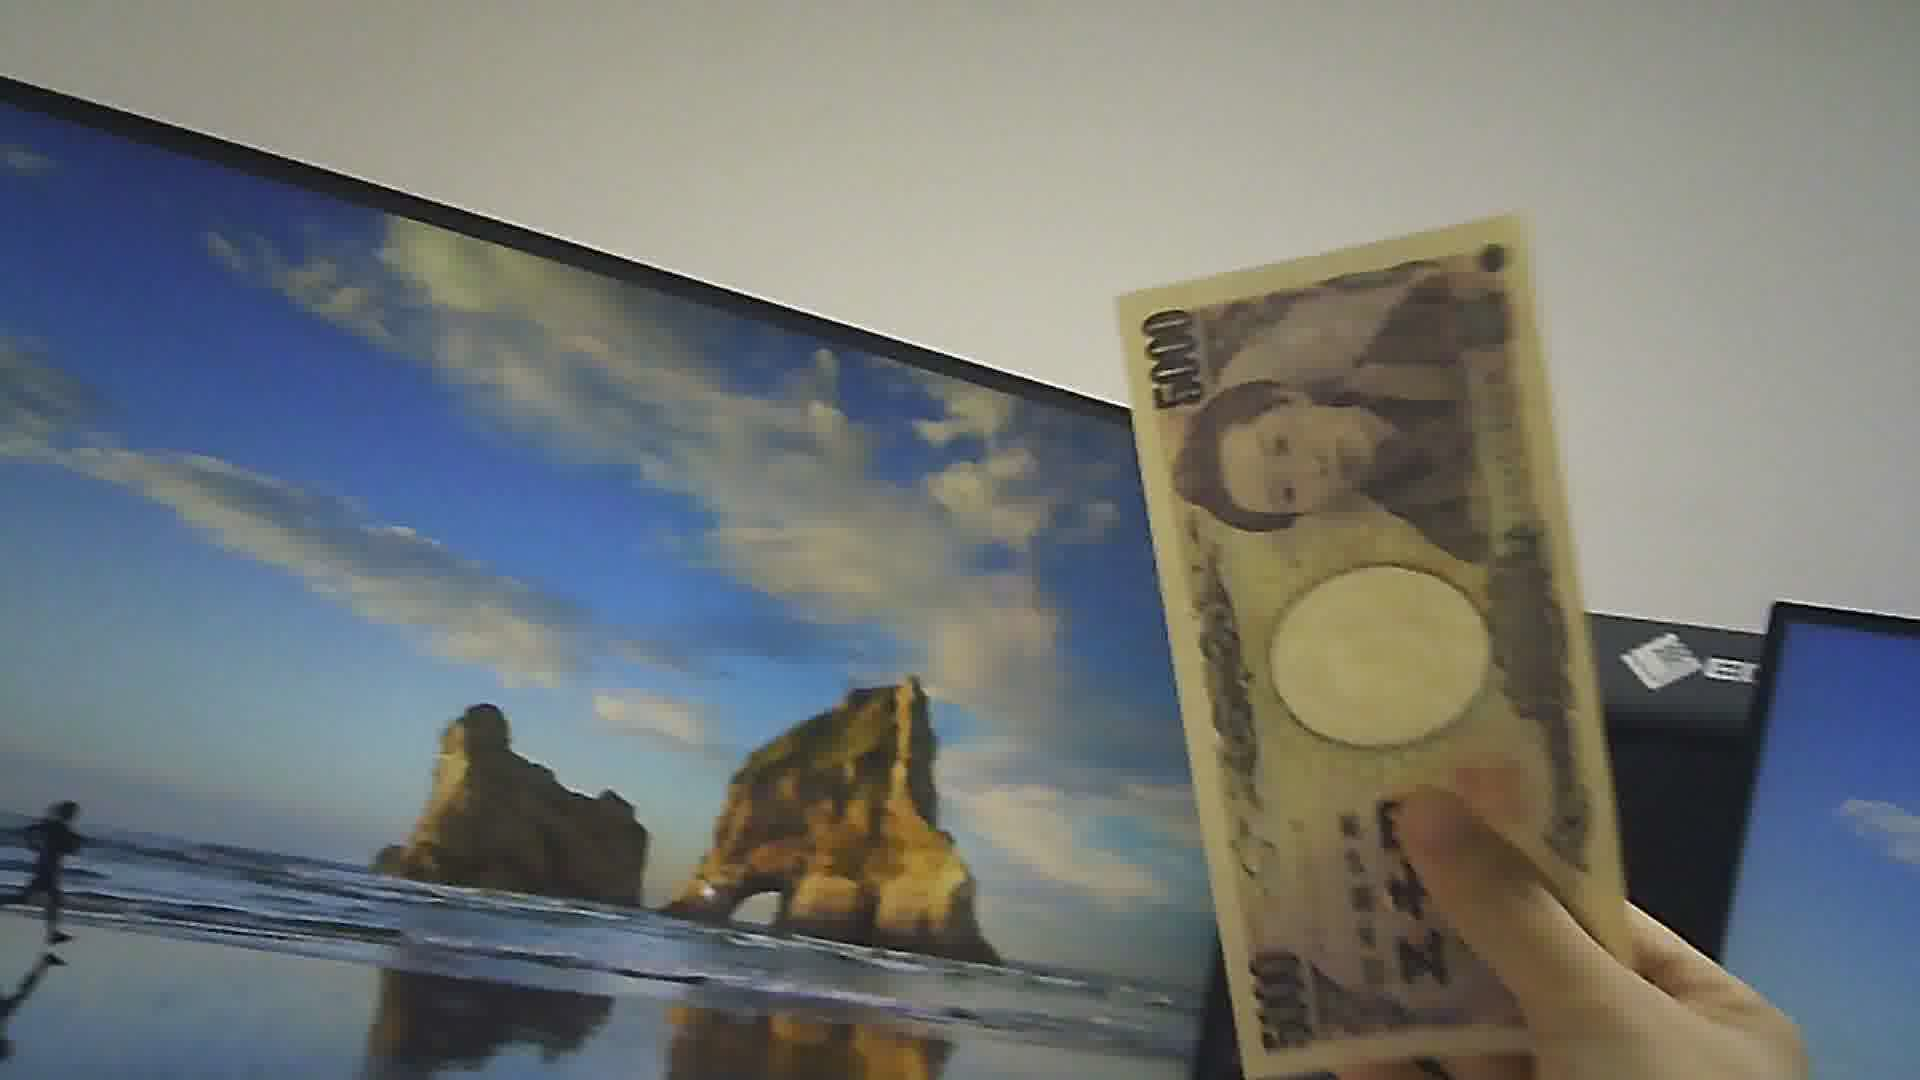5,000 Yen: (1116, 227, 1668, 1036)
